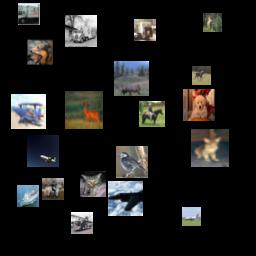airplane: (11, 94, 46, 129), (108, 181, 143, 216), (27, 135, 59, 167), (182, 207, 201, 226)
bird: (116, 146, 148, 178)
cat: (191, 129, 229, 167), (80, 171, 106, 197)
deer: (65, 91, 103, 129), (114, 61, 149, 96), (203, 13, 222, 32)
dog: (183, 89, 215, 121), (27, 39, 53, 65)
ship: (17, 185, 39, 207)
truck: (65, 15, 97, 47), (71, 212, 93, 234), (18, 3, 40, 25), (134, 19, 156, 41)
